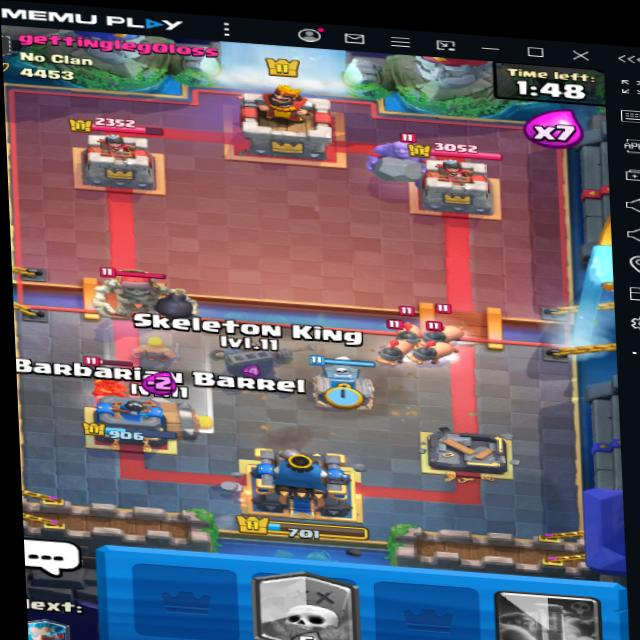bowler: (362, 129, 444, 192)
giant-skeleton: (78, 257, 205, 330)
ram-rider: (76, 346, 150, 410)
royal-hogs: (407, 336, 464, 374), (374, 324, 413, 370), (419, 316, 475, 346), (393, 310, 422, 346)
